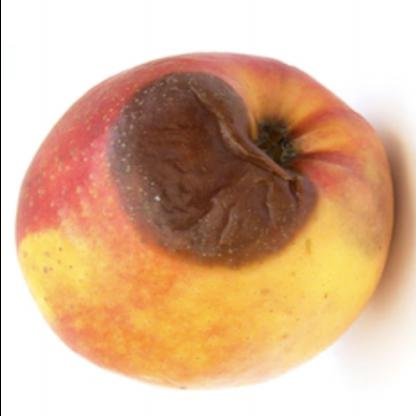Rotten Apple: (15, 54, 393, 390)
